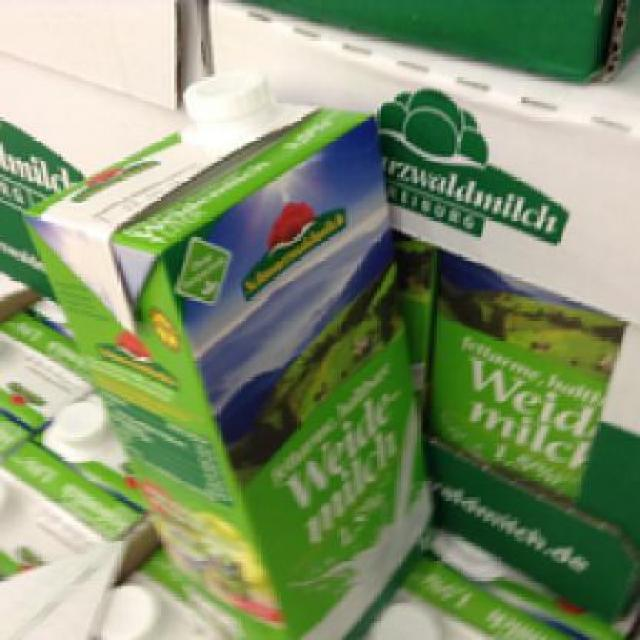Milk: (17, 68, 430, 638)
